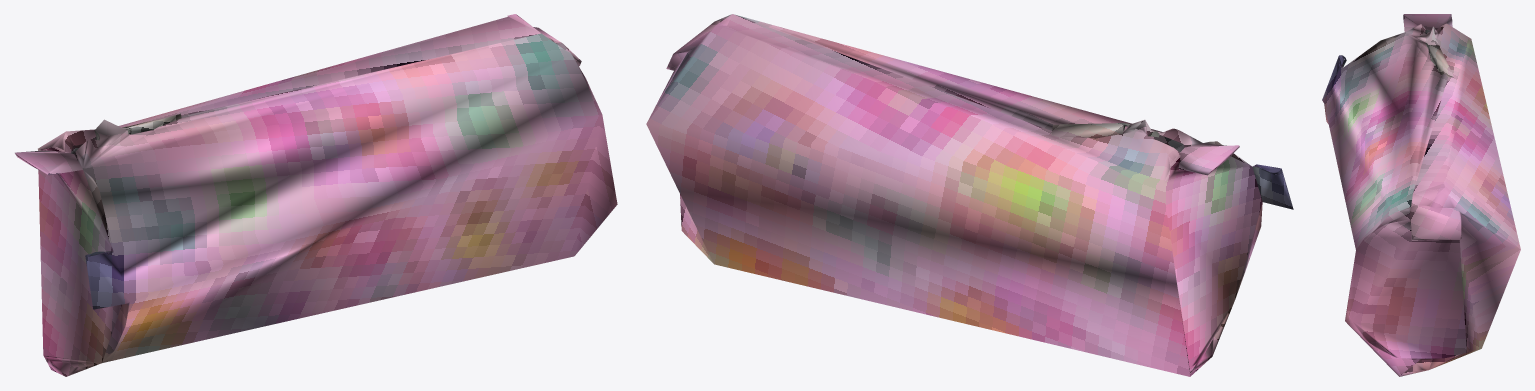
The model's file is Olive_Kids_Paisley_Pencil_Case-low.glb.
The picture shows the model from 3 angles, left to right: view 1: azimuth 30°, elevation 25°; view 2: azimuth 150°, elevation 25°; view 3: azimuth 270°, elevation 25°; orthographic projection. The views are drawn at different scales.
Parts seen in each view (by area): view 1: Olive_Kids_Paisley_Pencil_Case; view 2: Olive_Kids_Paisley_Pencil_Case; view 3: Olive_Kids_Paisley_Pencil_Case.
Part boxes in pixels (x1,y1,x2,y2): Olive_Kids_Paisley_Pencil_Case: (15, 14, 617, 376); Olive_Kids_Paisley_Pencil_Case: (646, 14, 1293, 376); Olive_Kids_Paisley_Pencil_Case: (1322, 14, 1520, 376).
Size of the model in its own units: 0.2128 by 0.0903 by 0.0863.
Materials: 1 (1 with a texture image).
